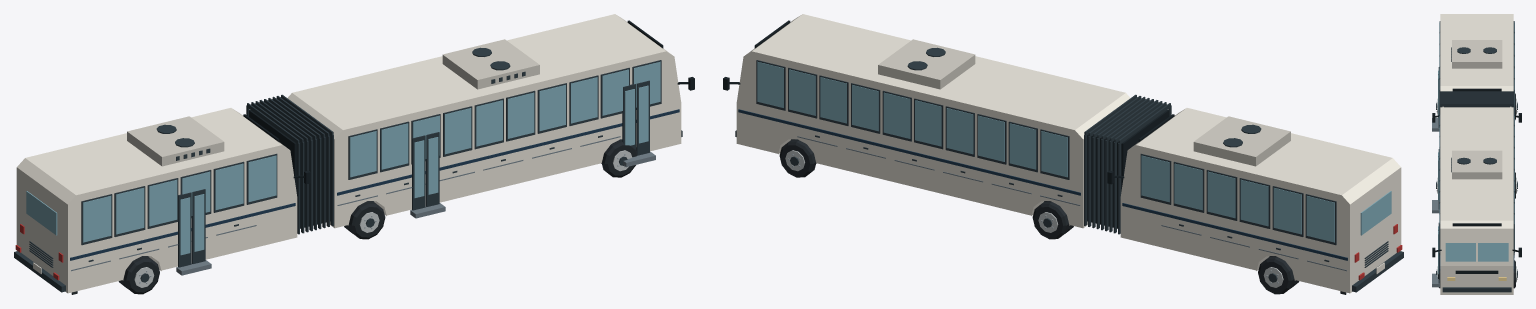
File: b15_articulated_transit_bus.glb
3 renders of one model, left to right at view 1: azimuth 30°, elevation 25°; view 2: azimuth 150°, elevation 25°; view 3: azimuth 270°, elevation 25°, orthographic. The views are drawn at different scales.
Visible parts, largest first — view 1: b15_articulated_transit_bus; view 2: b15_articulated_transit_bus; view 3: b15_articulated_transit_bus.
Boxes of the visible parts, x1,y1,x2,y2 form: b15_articulated_transit_bus: (14, 14, 694, 294); b15_articulated_transit_bus: (723, 14, 1403, 294); b15_articulated_transit_bus: (1432, 14, 1521, 294).
Size of the model in its own units: 18.08 by 3.45 by 3.12.
